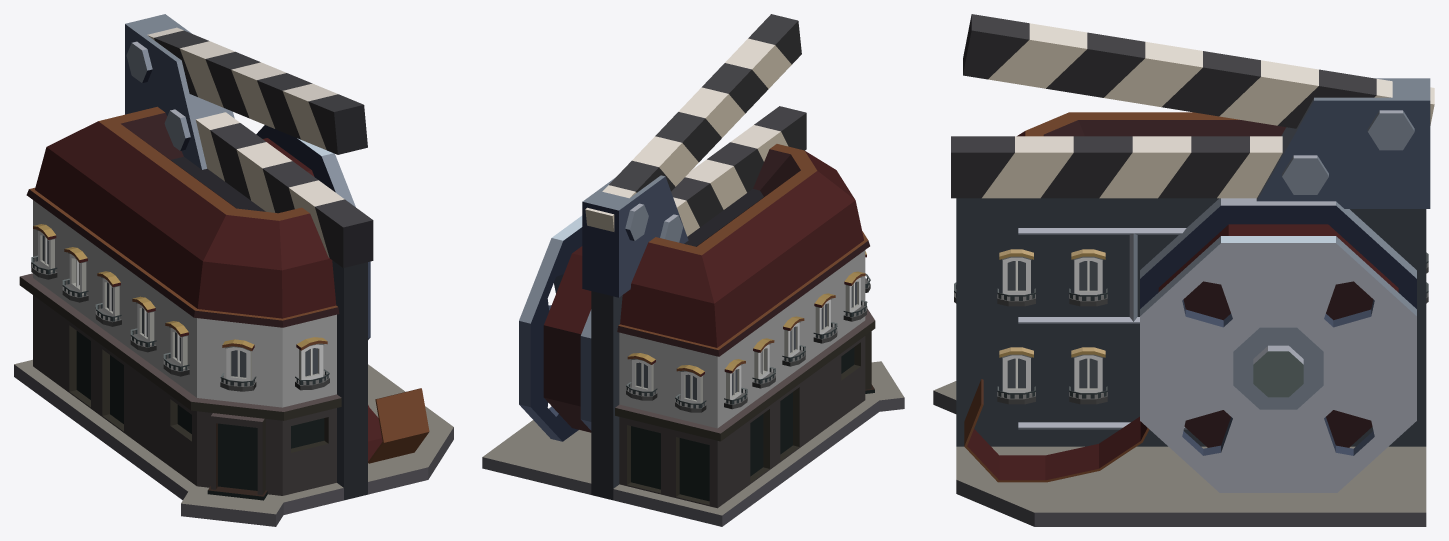
Rendered from TB_CITY_Uniq_Theater.FBX.
3 views of the same model, side by side, from view 1: azimuth 30°, elevation 25°; view 2: azimuth 150°, elevation 25°; view 3: azimuth 270°, elevation 25° (orthographic). The views are drawn at different scales.
Visible parts, largest first — view 1: TB_CITY_Uniq_Theater; view 2: TB_CITY_Uniq_Theater; view 3: TB_CITY_Uniq_Theater.
Part boxes in pixels (x1,y1,x2,y2): TB_CITY_Uniq_Theater: [14, 14, 453, 526]; TB_CITY_Uniq_Theater: [482, 14, 904, 526]; TB_CITY_Uniq_Theater: [933, 14, 1434, 526].
Bounding box in the file's own units: 18.75 × 24.3 × 25.56.
